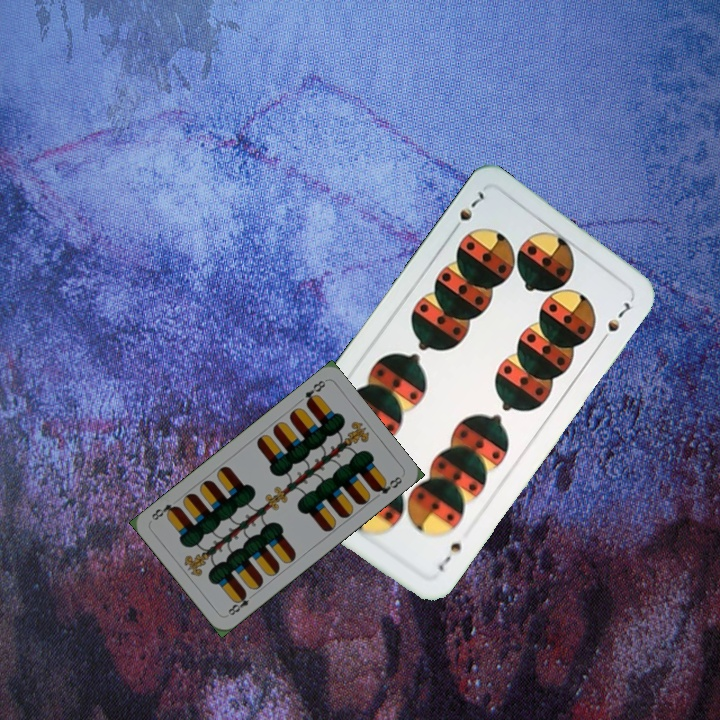E8: (223, 588, 258, 619), (300, 376, 328, 409)
S7: (447, 187, 487, 237), (433, 538, 464, 575)
